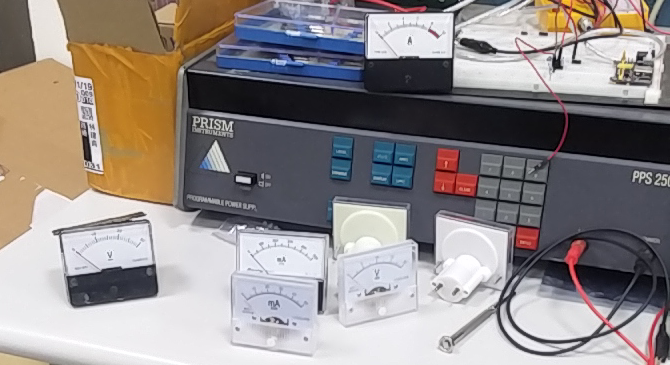Amp_Meter: (364, 12, 458, 67)
MilliAmp_Meter: (231, 278, 319, 328), (237, 231, 327, 278)
Volt_Meter: (57, 224, 160, 278), (337, 238, 420, 303)
